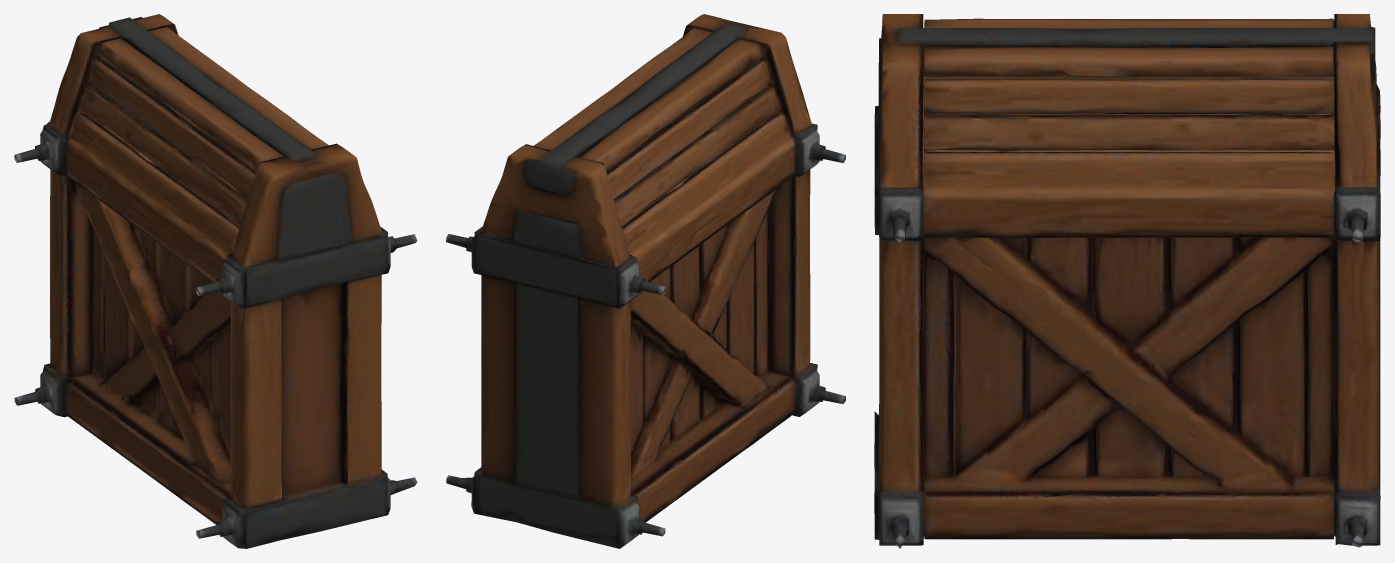
Rendered from crate.glb.
3 views of the same model, side by side, from view 1: azimuth 30°, elevation 25°; view 2: azimuth 150°, elevation 25°; view 3: azimuth 270°, elevation 25° (orthographic). The views are drawn at different scales.
Visible parts, largest first — view 1: tripo_node_fa263cac-32f9-427d-84bf-756351d92608; view 2: tripo_node_fa263cac-32f9-427d-84bf-756351d92608; view 3: tripo_node_fa263cac-32f9-427d-84bf-756351d92608.
Part boxes in pixels (x1,y1,x2,y2): tripo_node_fa263cac-32f9-427d-84bf-756351d92608: [14, 14, 417, 548]; tripo_node_fa263cac-32f9-427d-84bf-756351d92608: [446, 14, 845, 548]; tripo_node_fa263cac-32f9-427d-84bf-756351d92608: [874, 14, 1380, 548].
Size of the model in its own units: 0.6133 by 1 by 0.9834.
Materials: 1 (1 with a texture image).
